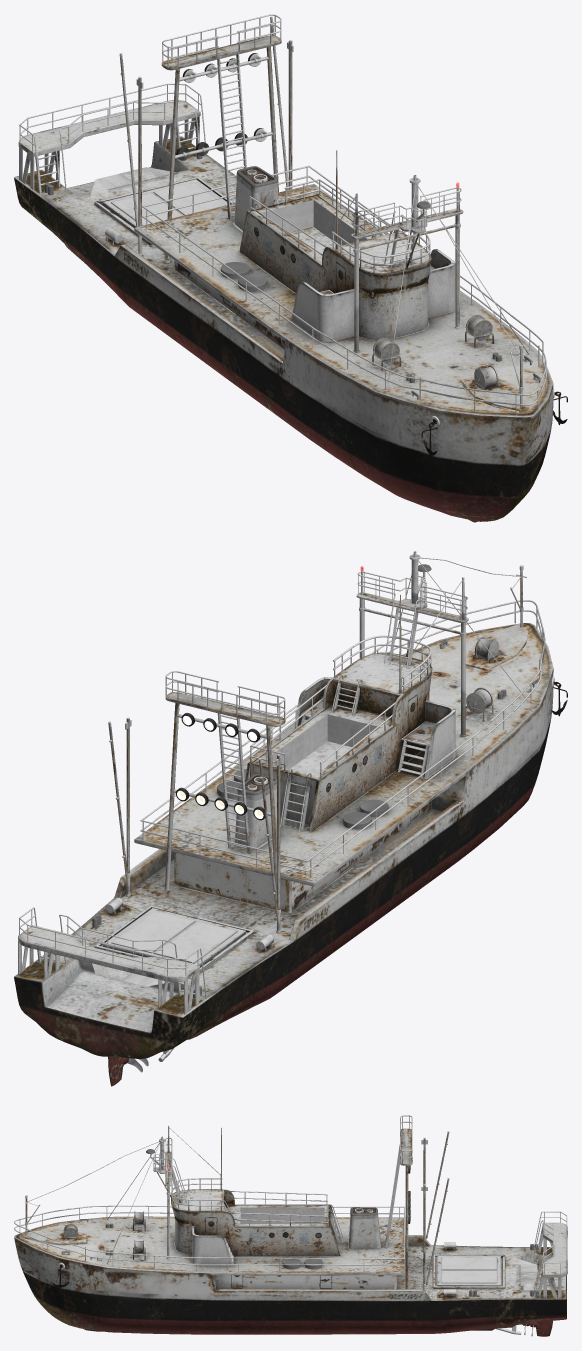
Rendered from mothership.glb.
3 views of the same model, one above another, from view 1: azimuth 30°, elevation 25°; view 2: azimuth 150°, elevation 25°; view 3: azimuth 270°, elevation 25° (orthographic). The views are drawn at different scales.
Visible parts, largest first — view 1: Main; view 2: Main; view 3: Main.
Part boxes in pixels (x1,y1,x2,y2): Main: (14,14,567,522); Main: (14,551,567,1086); Main: (14,1115,567,1336).
Size of the model in its own units: 0.1774 by 0.2994 by 0.7404.
Materials: 1 (1 with a texture image).
